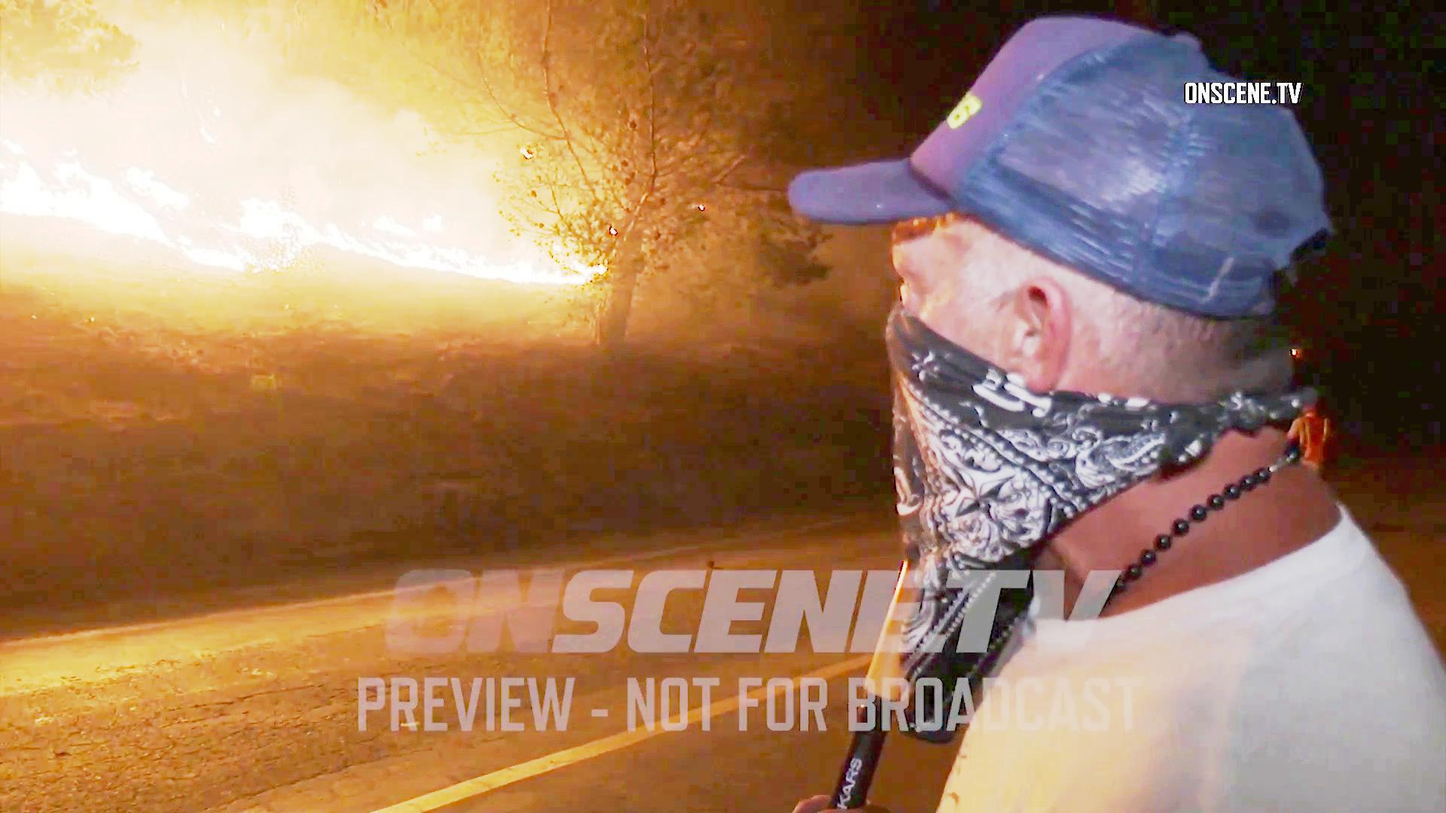fire: (6, 134, 278, 268), (275, 193, 565, 294)
